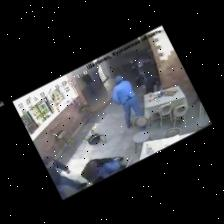person: (42, 156, 87, 199), (112, 75, 144, 127), (81, 156, 124, 184), (82, 74, 97, 99)
